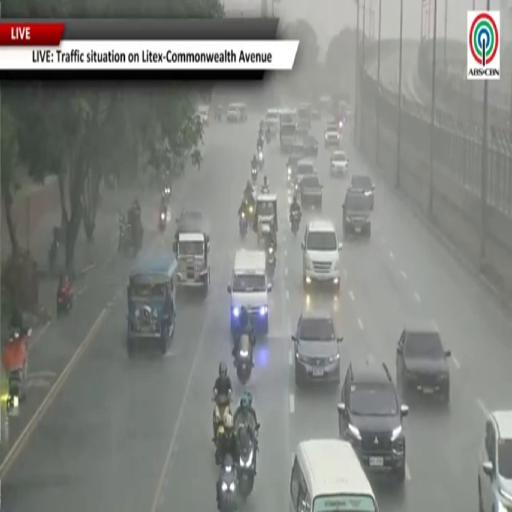car: (338, 361, 408, 482), (396, 320, 450, 403), (292, 312, 342, 386), (478, 411, 511, 511), (301, 219, 342, 291), (343, 189, 371, 237), (350, 174, 375, 209), (292, 158, 317, 191), (299, 175, 322, 209), (287, 152, 304, 188), (294, 131, 318, 156), (330, 151, 348, 177), (226, 102, 247, 123), (265, 108, 279, 136), (325, 122, 340, 148), (303, 134, 318, 156), (298, 103, 311, 127), (319, 95, 332, 114), (197, 105, 209, 125), (297, 119, 310, 136), (312, 106, 321, 120)
jeepney: (127, 252, 177, 356), (173, 211, 210, 291), (254, 195, 278, 244)
motorcycle: (238, 425, 257, 500), (213, 395, 231, 465), (6, 359, 27, 411), (234, 333, 253, 385), (219, 467, 236, 511), (57, 286, 73, 316), (118, 216, 131, 252), (48, 238, 58, 274), (266, 242, 276, 277), (239, 211, 248, 239), (291, 211, 301, 235), (162, 185, 171, 206), (159, 211, 166, 233), (258, 150, 264, 169), (251, 168, 258, 184), (266, 132, 272, 143), (261, 186, 269, 194)
truck: (280, 109, 297, 153)
